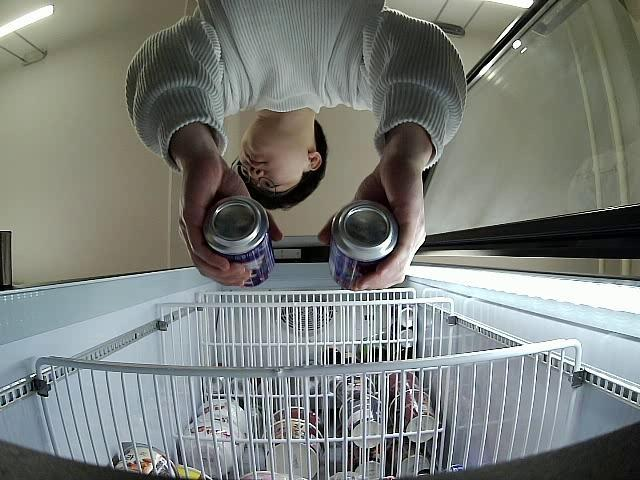14_welchsGrape: (206, 194, 275, 288), (329, 202, 396, 290)
